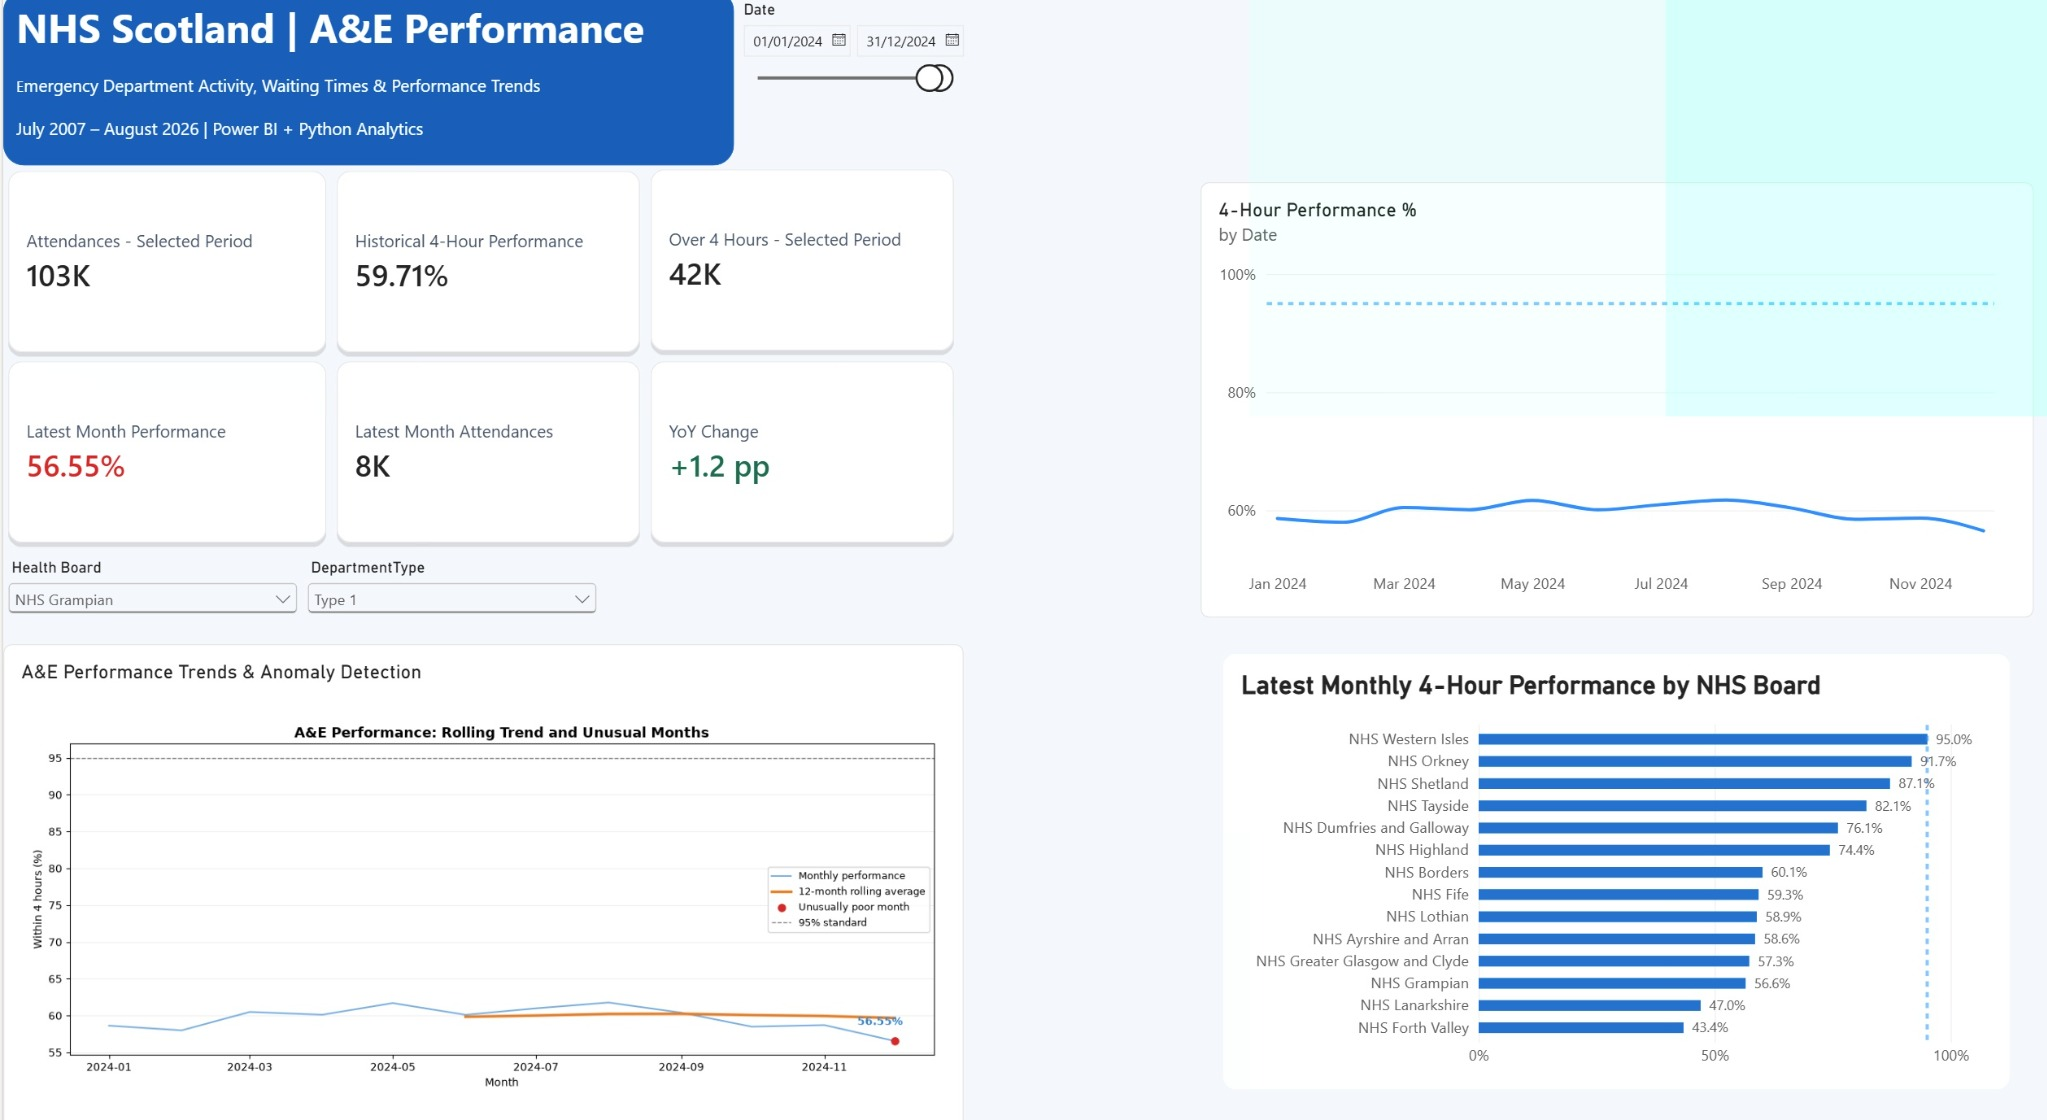

What the dashboard file says about the page in this screenshot:
{"tool":"powerbi","page":{"name":"Page 1","canvas":[1920,1080],"ordinal":0},"visuals":[{"type":"cardVisual","fields":{"Data":["AE_Activity.Total Attendances"]},"box":[0,164,307.4,179.2],"z":0},{"type":"cardVisual","fields":{"Data":["AE_Activity.Over 4 Hours"]},"box":[601.4,162.8,293.7,179.3],"z":1000},{"type":"cardVisual","fields":{"Data":["AE_Activity.4-Hour Performance %"]},"box":[307.7,164,293.4,179.2],"z":2000},{"type":"slicer","fields":{"Values":["AE_Activity.Date"]},"box":[685.2,9.1,222.5,279.7],"z":3000},{"type":"lineChart","fields":{"Category":["AE_Activity.Date"],"Y":["AE_Activity.4-Hour Performance %"]},"box":[1120.7,179.2,779.9,407.5],"z":4000},{"type":"slicer","fields":{"Values":["Health_Boards.Health Board"]},"box":[0,531.5,280,280],"z":5000},{"type":"slicer","fields":{"Values":["AE_Activity.DepartmentType"]},"box":[279.7,531.5,280,280],"z":6000},{"type":"clusteredBarChart","title":"Latest Monthly 4-Hour Performance by NHS Board","fields":{"Category":["Health_Boards.Health Board"],"Y":["AE_Activity.Latest 4-Hour Performance %"]},"box":[1141.8,621.8,736,407.5],"z":7000},{"type":"cardVisual","fields":{"Data":["AE_Activity.Latest 4-Hour Performance %"]},"box":[0,343.3,307.7,179.3],"z":8000},{"type":"shape","box":[0,0,684.1,164],"z":8500},{"type":"cardVisual","fields":{"Data":["AE_Activity.Latest Month Attendances"]},"box":[307.7,343.3,293.4,179.2],"z":9000},{"type":"cardVisual","fields":{"Data":["AE_Activity.YoY Change Display"]},"box":[601.4,342,293.4,179.2],"z":10000},{"type":"pythonVisual","title":"A&E Performance Trends & Anomaly Detection","fields":{"Values":["AE_Activity.Date","AE_Activity.NumberOfAttendancesAll","AE_Activity.NumberWithin4HoursAll"]},"box":[0,612.3,898.9,458.6],"z":11000},{"type":"textbox","box":[11.4,8.9,672.6,190.7],"z":14000}]}

Visuals, with their boxes in screenshot pixels (x1, y1, x2, y2), scaled from the page's 1920x1080 canvas onto the 2047x1120 screenshot:
cardVisual - AE_Activity.Total Attendances: left=0, top=170, right=328, bottom=356
cardVisual - AE_Activity.Over 4 Hours: left=641, top=169, right=954, bottom=355
cardVisual - AE_Activity.4-Hour Performance %: left=328, top=170, right=641, bottom=356
slicer - AE_Activity.Date: left=731, top=9, right=968, bottom=299
lineChart - AE_Activity.Date x AE_Activity.4-Hour Performance %: left=1195, top=186, right=2026, bottom=608
slicer - Health_Boards.Health Board: left=0, top=551, right=299, bottom=842
slicer - AE_Activity.DepartmentType: left=298, top=551, right=597, bottom=842
"Latest Monthly 4-Hour Performance by NHS Board" clusteredBarChart: left=1217, top=645, right=2002, bottom=1067
cardVisual - AE_Activity.Latest 4-Hour Performance %: left=0, top=356, right=328, bottom=542
shape: left=0, top=0, right=729, bottom=170
cardVisual - AE_Activity.Latest Month Attendances: left=328, top=356, right=641, bottom=542
cardVisual - AE_Activity.YoY Change Display: left=641, top=355, right=954, bottom=541
"A&E Performance Trends & Anomaly Detection" pythonVisual: left=0, top=635, right=958, bottom=1111
textbox: left=12, top=9, right=729, bottom=207
